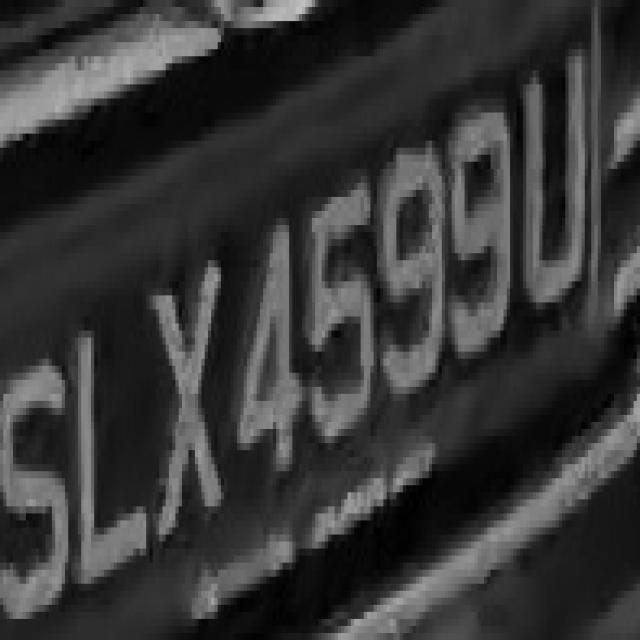4: (218, 197, 299, 499)
5: (302, 162, 380, 443)
9: (442, 77, 516, 373), (377, 141, 451, 422)
L: (55, 309, 146, 584)
S: (3, 338, 68, 626)
U: (514, 56, 592, 316)
X: (146, 253, 228, 528)
